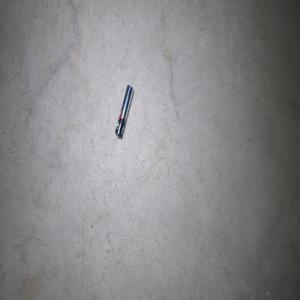Battery: (114, 84, 133, 138)
